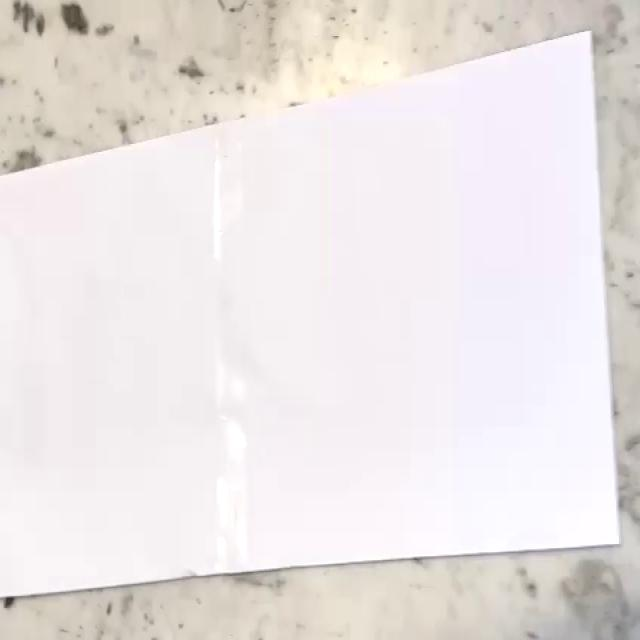road: (0, 32, 620, 599)
